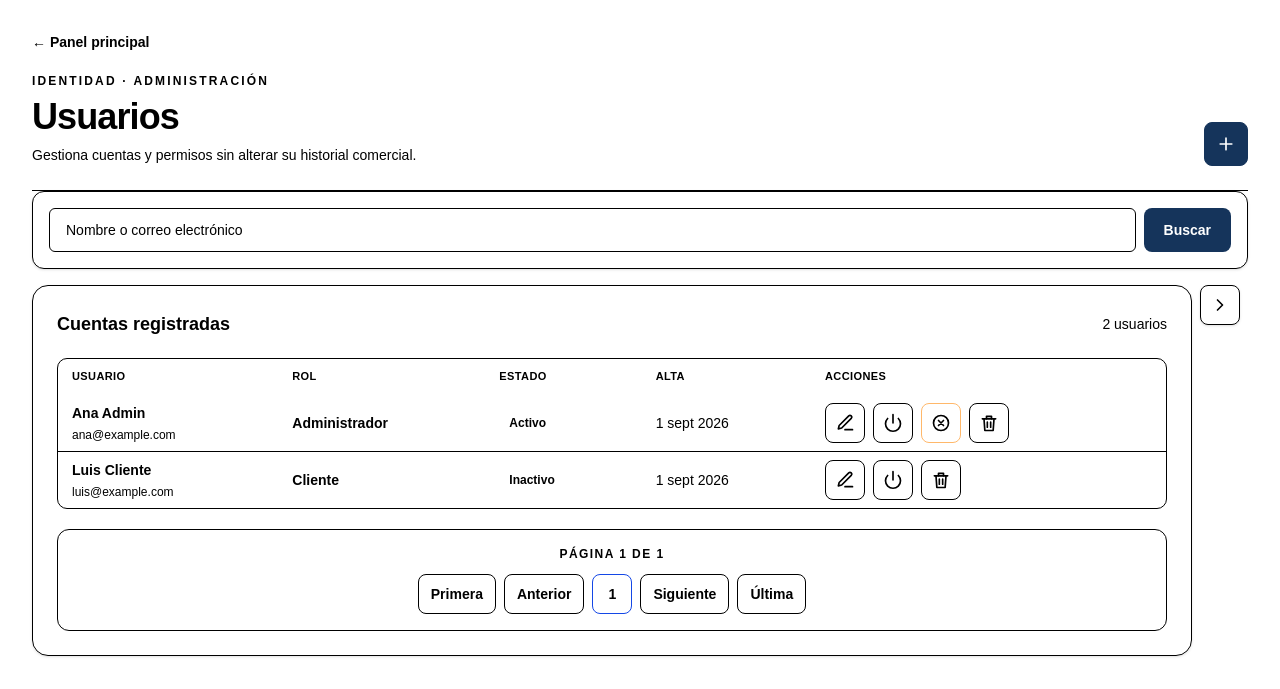
Scenario: user administration › keeps an edit open after failure and confirms blocking an active account
Click the button named "Editar Ana Admin": (845, 423) top-left (825, 403), bottom-right (865, 443)
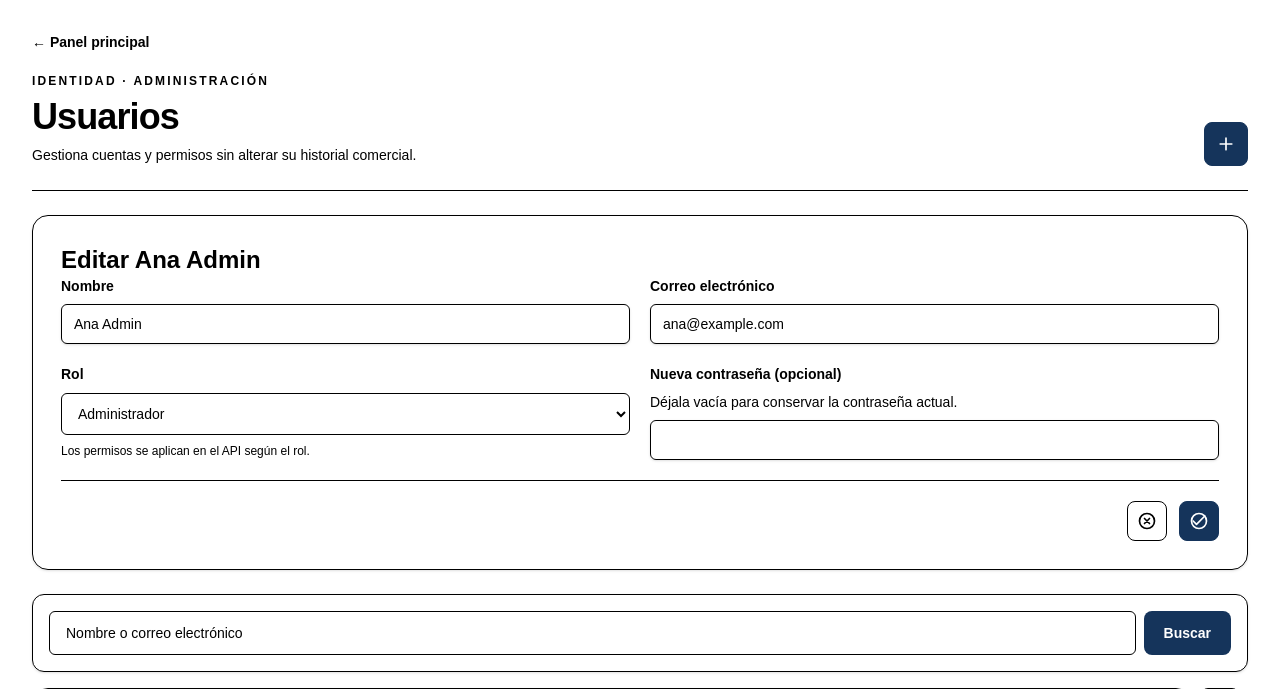
Replace the text in the field labelled "Nombre" with "Ana Updated": (346, 324) top-left (61, 304), bottom-right (630, 344)
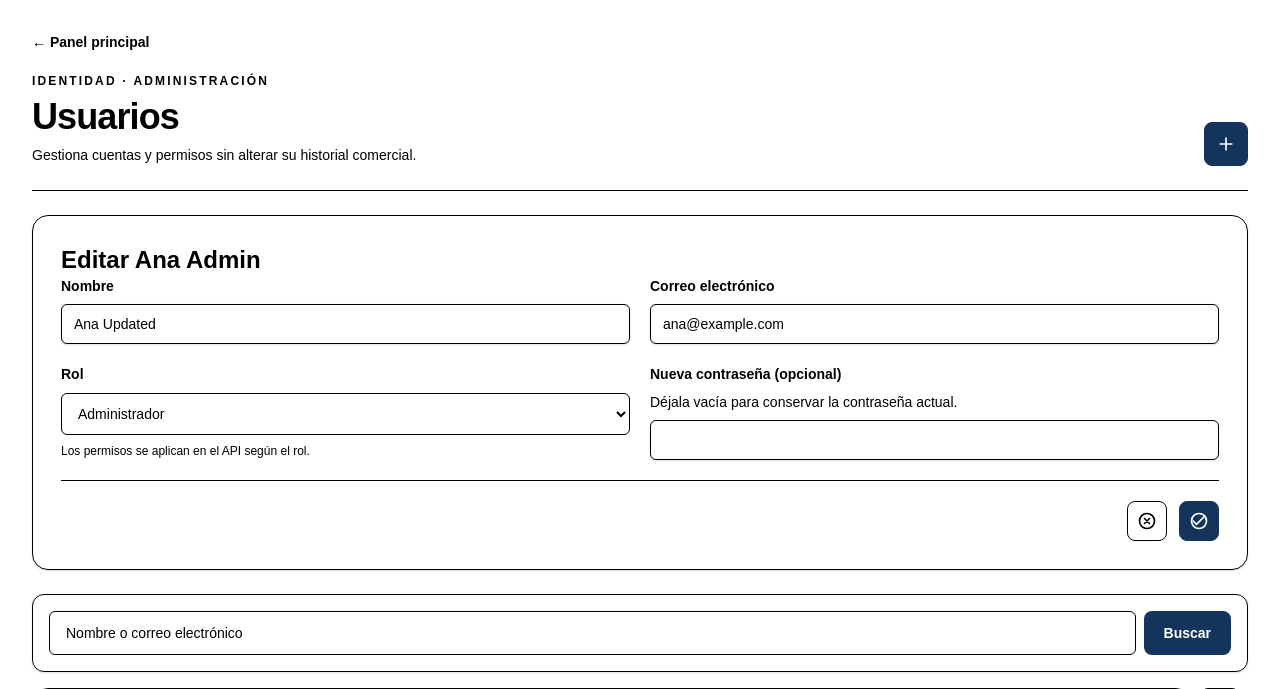
Click the button named "Guardar usuario": (1199, 521) top-left (1179, 501), bottom-right (1219, 541)
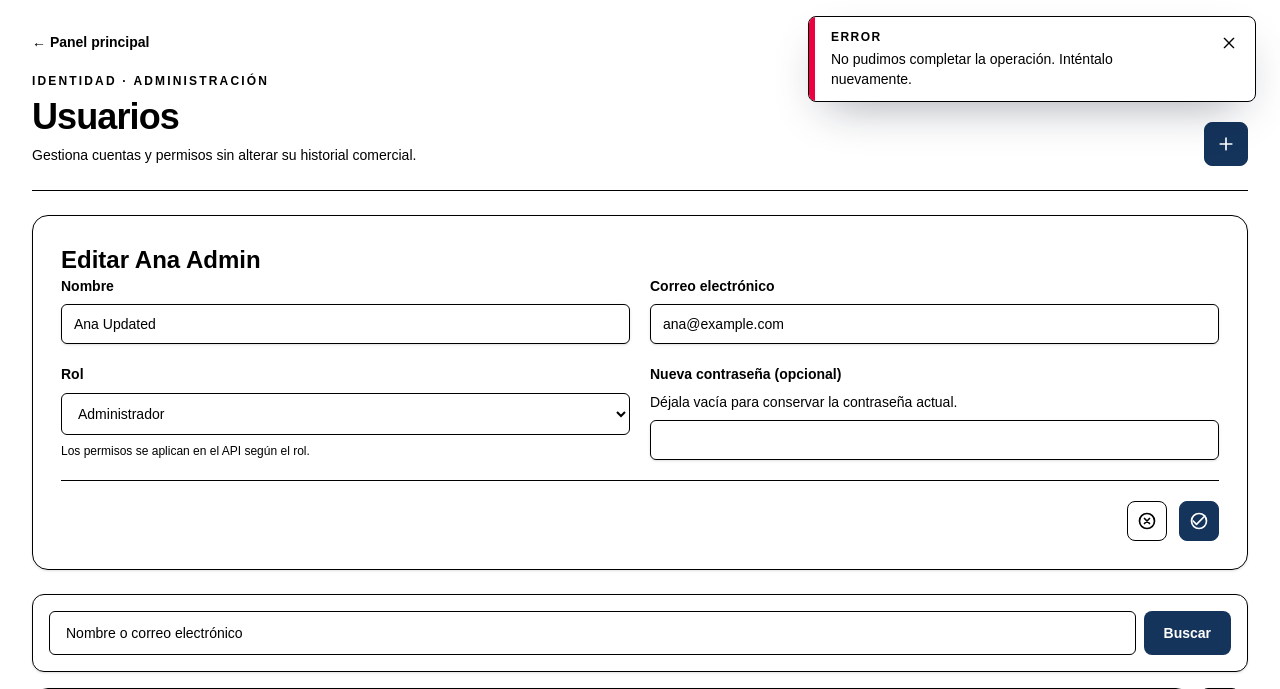
Check: the heading "Editar Ana Admin" is shown, box top-left (61, 246), bottom-right (261, 273)
Check: the text "No pudimos completar la operación. Inténtalo nuevamente." is shown, box top-left (831, 51), bottom-right (1113, 87)
Click the button named "Cancelar": (1147, 521) top-left (1127, 501), bottom-right (1167, 541)
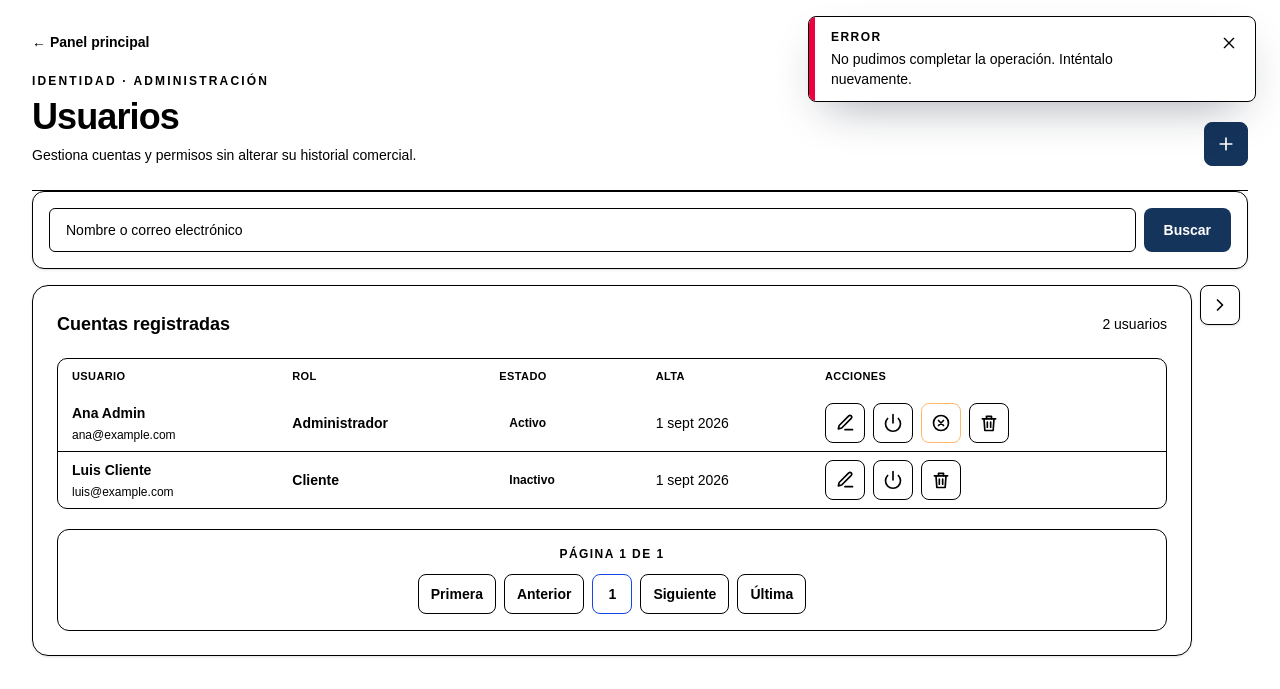
Click the button named "Bloquear Ana Admin": (941, 423) top-left (921, 403), bottom-right (961, 443)
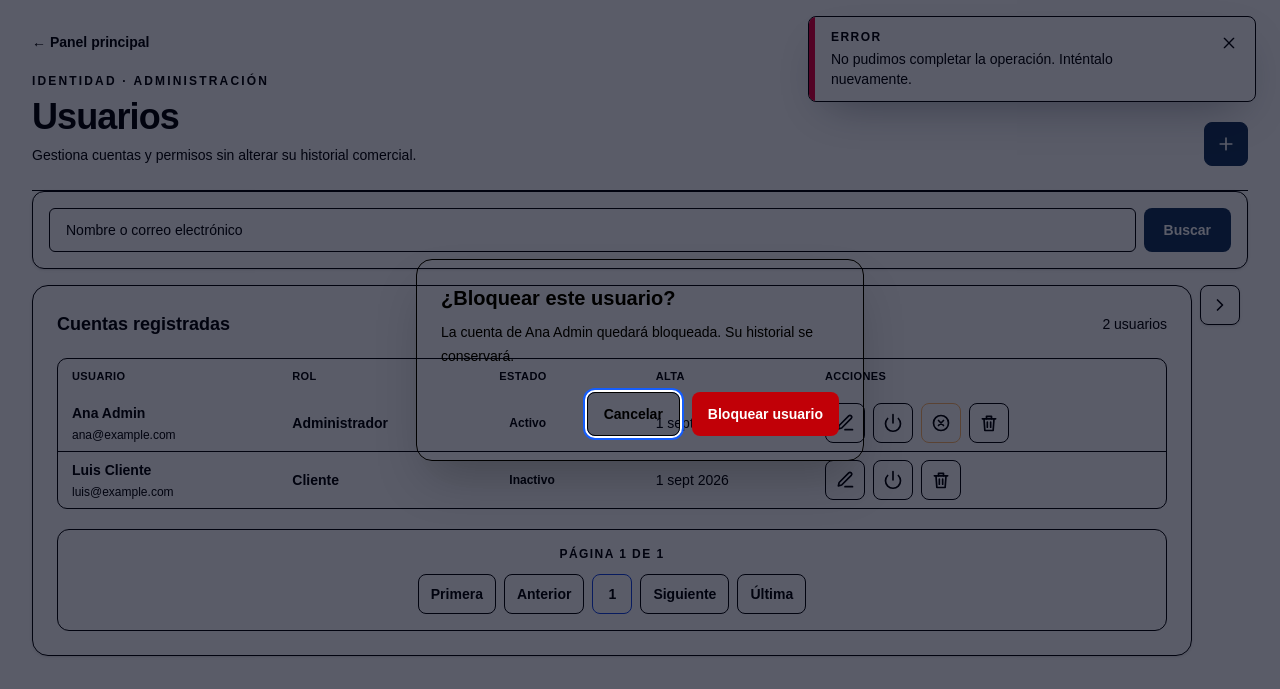
Click the button "Bloquear usuario": (765, 414) top-left (692, 392), bottom-right (839, 436)
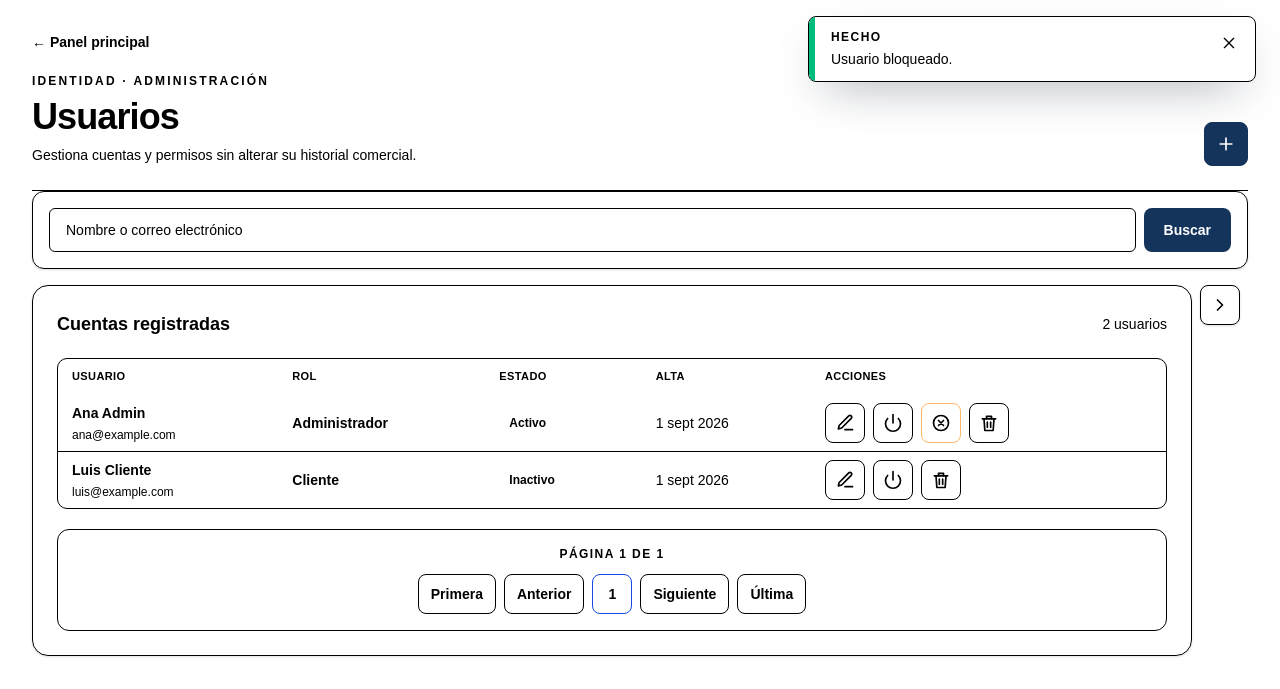
Check: the text "Usuario bloqueado." is shown, box top-left (831, 51), bottom-right (952, 67)
